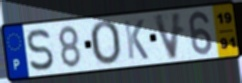6: (187, 9, 214, 57)
8: (56, 24, 84, 69)
K: (122, 18, 150, 61)
O: (88, 19, 122, 67)
S: (26, 27, 55, 73)
V: (152, 11, 185, 62)
